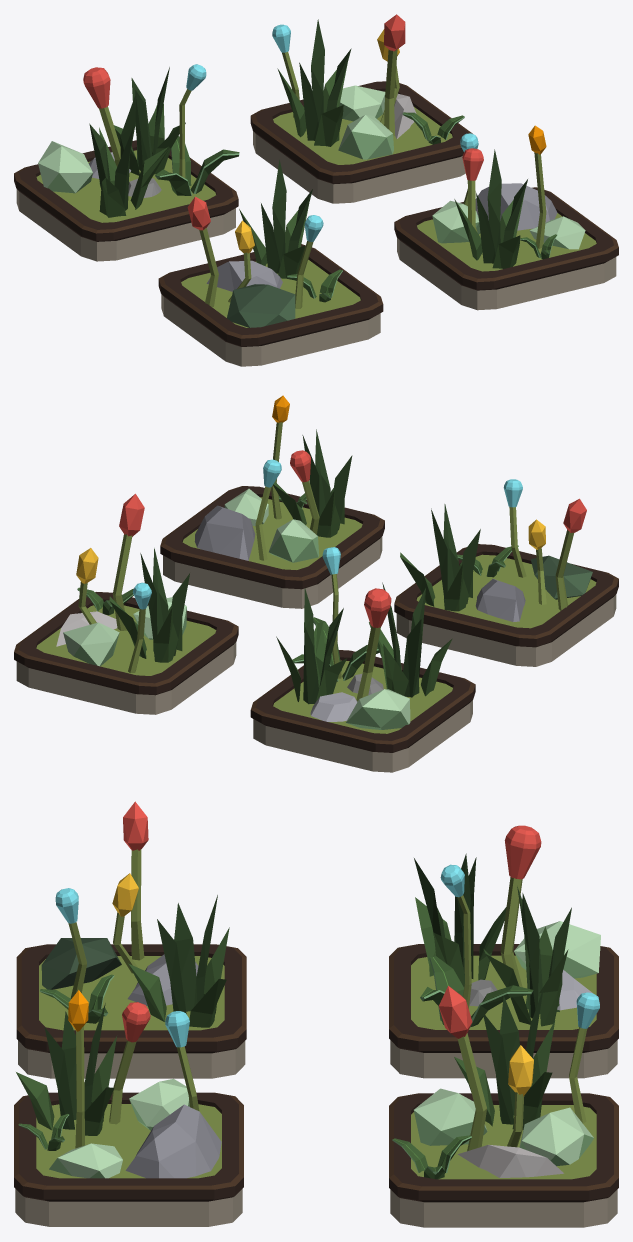
File: Crossroads_B.glb
3 renders of one model, top to bottom at view 1: azimuth 30°, elevation 25°; view 2: azimuth 150°, elevation 25°; view 3: azimuth 270°, elevation 25°, orthographic. The views are drawn at different scales.
Visible parts, largest first — view 1: Cube.232, Cube.231, Cube.233, Cube.230, Grass_03.552, Grass_03.554, Grass_03.551, Grass_03.553, Tree_03.1404, Grass_03.550, Tree_03.1401, Flower03.1652 (+17 smaller); view 2: Cube.231, Cube.232, Cube.230, Cube.233, Grass_03.551, Grass_03.552, Grass_03.550, Grass_03.553, Grass_03.554, Flower03.1650, Rock_08.070, Flower03.1652 (+16 smaller); view 3: Cube.231, Cube.233, Cube.232, Cube.230, Grass_03.553, Grass_03.554, Rock_08.070, Grass_03.552, Grass_03.550, Grass_03.551, Flower03.1650, Flower03.1652 (+20 smaller).
Part boxes in pixels (bbox=[...]): Cube.232: bbox=[158, 244, 383, 366]; Cube.231: bbox=[250, 81, 472, 203]; Cube.233: bbox=[394, 187, 618, 310]; Cube.230: bbox=[14, 140, 238, 261]; Grass_03.552: bbox=[277, 19, 351, 146]; Grass_03.554: bbox=[454, 149, 527, 268]; Grass_03.551: bbox=[89, 93, 169, 217]; Grass_03.553: bbox=[239, 159, 312, 279]; Tree_03.1404: bbox=[227, 284, 295, 327]; Grass_03.550: bbox=[114, 67, 185, 175]; Tree_03.1401: bbox=[38, 141, 92, 193]; Flower03.1652: bbox=[187, 196, 254, 307]; Cube.231: bbox=[14, 592, 238, 714]; Cube.232: bbox=[394, 544, 618, 666]; Cube.230: bbox=[250, 650, 475, 772]; Cube.233: bbox=[160, 486, 384, 608]; Grass_03.551: bbox=[369, 582, 452, 697]; Grass_03.552: bbox=[109, 548, 189, 662]; Grass_03.550: bbox=[276, 588, 347, 704]; Grass_03.553: bbox=[400, 504, 480, 611]; Grass_03.554: bbox=[273, 429, 352, 537]; Flower03.1650: bbox=[76, 493, 144, 630]; Rock_08.070: bbox=[194, 505, 255, 560]; Flower03.1652: bbox=[528, 498, 586, 610]; Cube.231: bbox=[389, 1093, 618, 1227]; Cube.233: bbox=[14, 1092, 243, 1226]; Cube.232: bbox=[16, 944, 246, 1078]; Cube.230: bbox=[389, 944, 618, 1078]; Grass_03.553: bbox=[128, 895, 229, 1027]; Grass_03.554: bbox=[16, 1003, 117, 1135]; Rock_08.070: bbox=[125, 1104, 221, 1178]; Grass_03.552: bbox=[454, 988, 555, 1129]; Grass_03.550: bbox=[483, 886, 571, 1026]; Grass_03.551: bbox=[414, 853, 506, 986]; Flower03.1650: bbox=[438, 986, 533, 1151]; Flower03.1652: bbox=[112, 801, 148, 973].
Size of what is drawn, in the model's own units: 5.1 by 1.99 by 5.27.
Materials: 1 (1 with a texture image).
